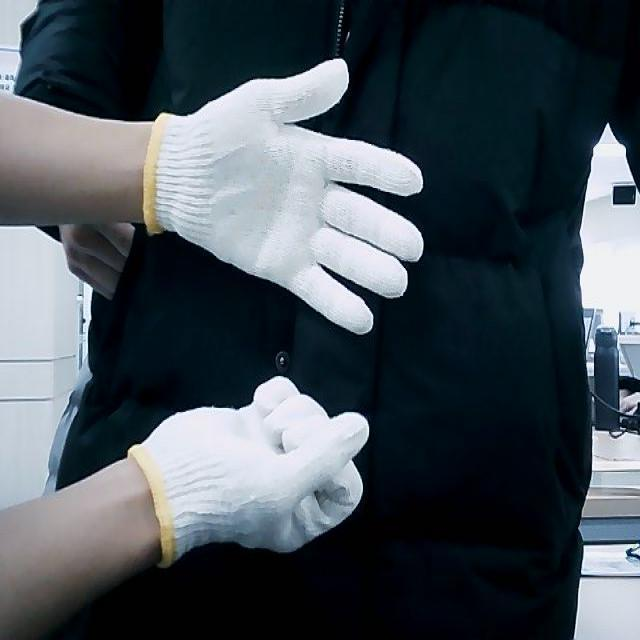gloves: (140, 55, 426, 339), (122, 376, 374, 568)
